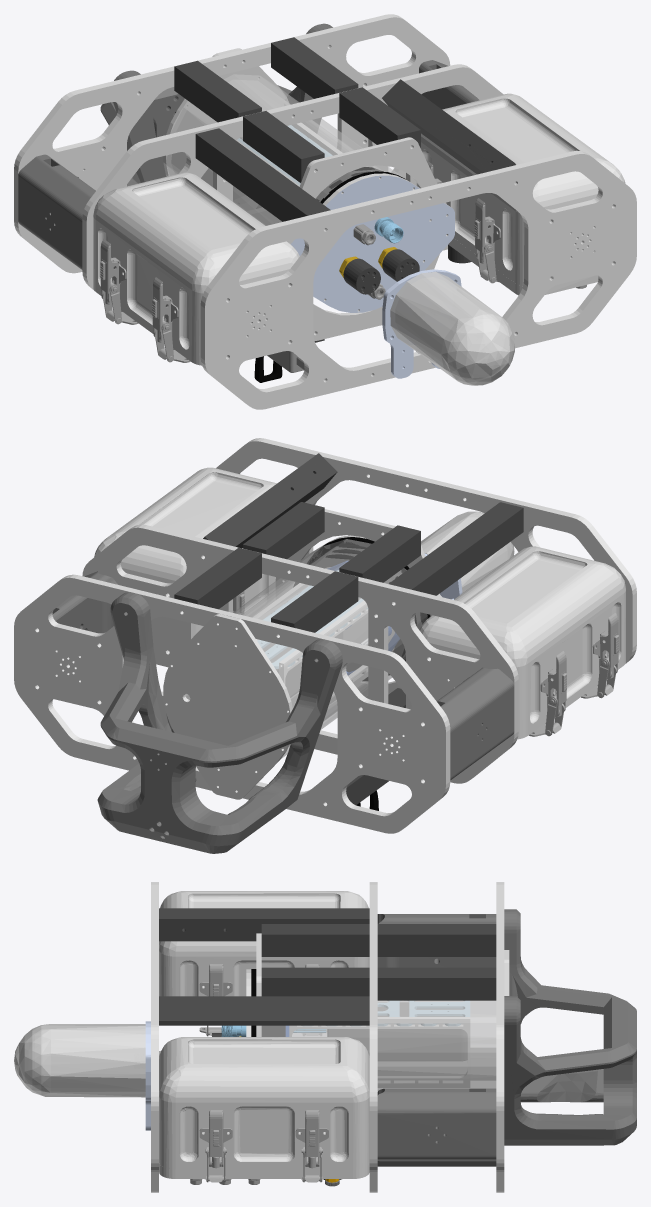
The model's file is steelhead.glb.
3 renders of one model, top to bottom at view 1: azimuth 30°, elevation 25°; view 2: azimuth 150°, elevation 25°; view 3: azimuth 270°, elevation 25°, orthographic. The views are drawn at different scales.
Size of the model in its own units: 0.5985 by 0.3149 by 0.7506.
